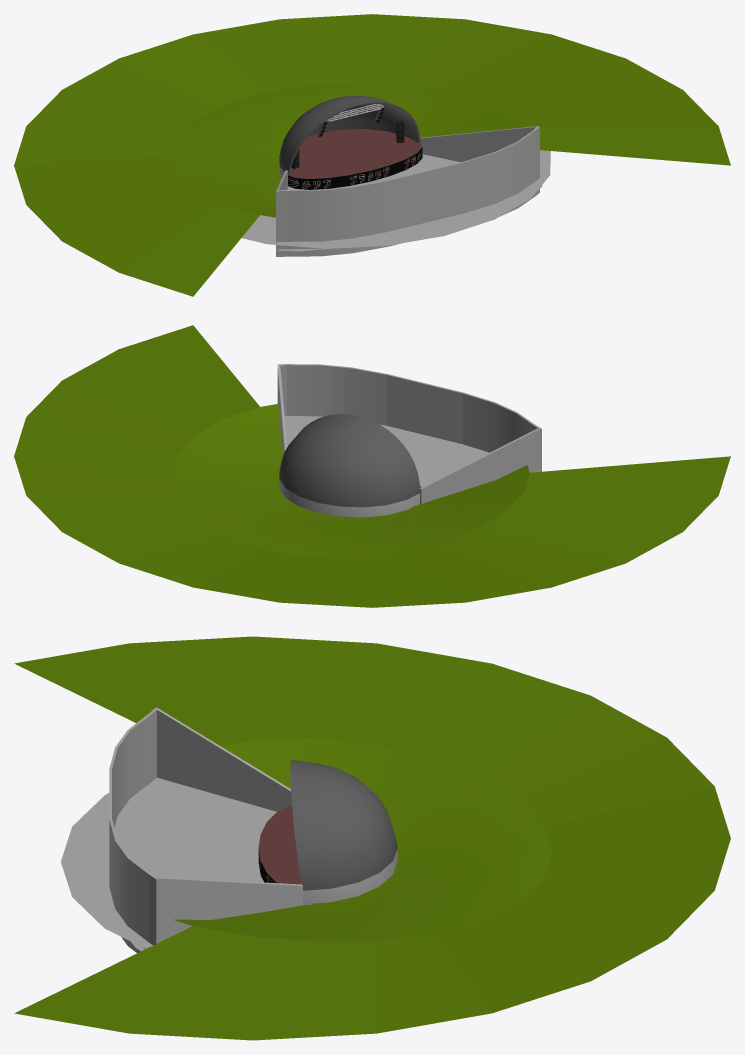
The model's file is stage.fbx.
3 renders of one model, top to bottom at view 1: azimuth 30°, elevation 25°; view 2: azimuth 150°, elevation 25°; view 3: azimuth 270°, elevation 25°, orthographic. The views are drawn at different scales.
Visible parts, largest first — view 1: pasted__pDisc1, pasted__pCube7, pasted__pCylinder29, pasted__pCylinder31; view 2: pasted__pDisc1, pasted__pCube7, pasted__pCylinder29, pasted__pCylinder31; view 3: pasted__pDisc1, pasted__pCube7, pasted__pCylinder31, pasted__pCylinder29.
Part boxes in pixels (x1,y1,x2,y2): pasted__pDisc1: (14,14,730,296); pasted__pCube7: (276,126,539,256); pasted__pCylinder29: (279,95,422,189); pasted__pCylinder31: (242,150,550,248); pasted__pDisc1: (14,325,730,607); pasted__pCube7: (277,364,541,504); pasted__pCylinder29: (279,414,421,517); pasted__pCylinder31: (284,416,488,486); pasted__pDisc1: (14,636,730,1040); pasted__pCube7: (109,707,302,953); pasted__pCylinder31: (61,777,276,948); pasted__pCylinder29: (258,760,397,904).
Bounding box in the file's own units: 65.76 × 9.4 × 49.32.
